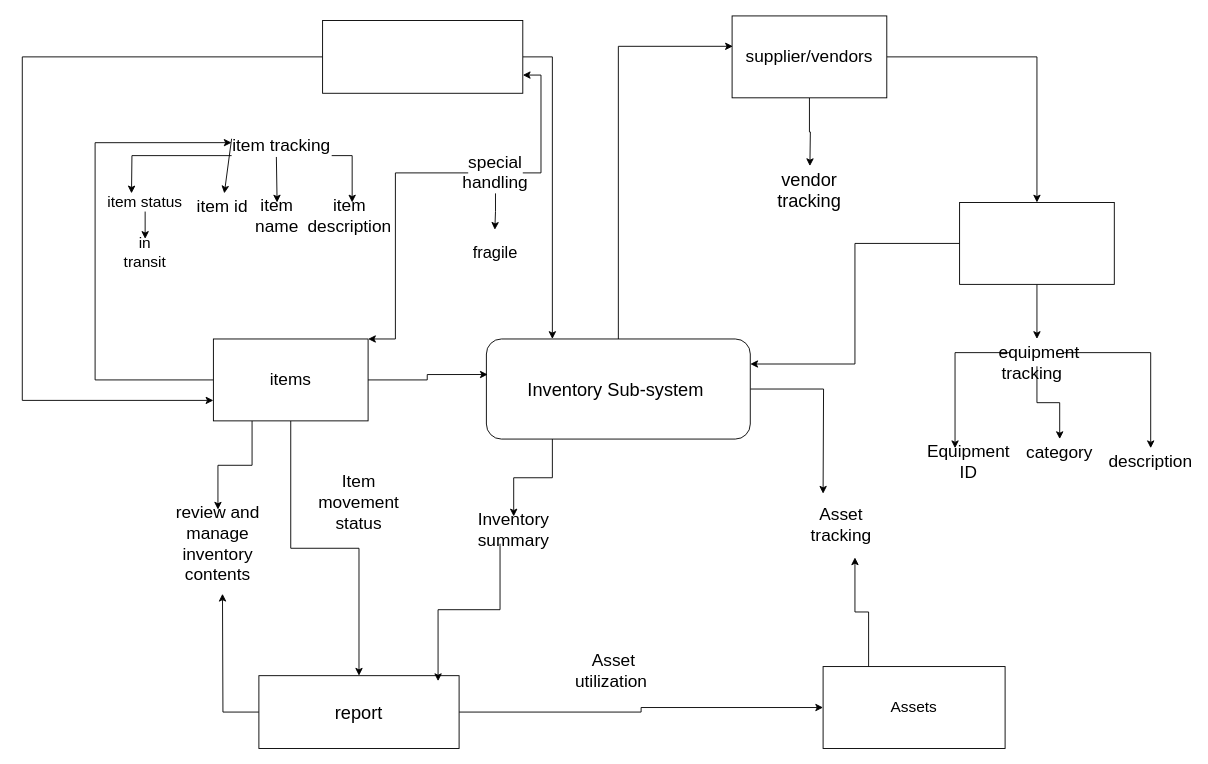
This 1208x764 diagram has some shape labels left out. The centre of each missing label's shape, as x and y in pixels:
customer relations: (x=422, y=56)
Equipment: (x=1036, y=243)
